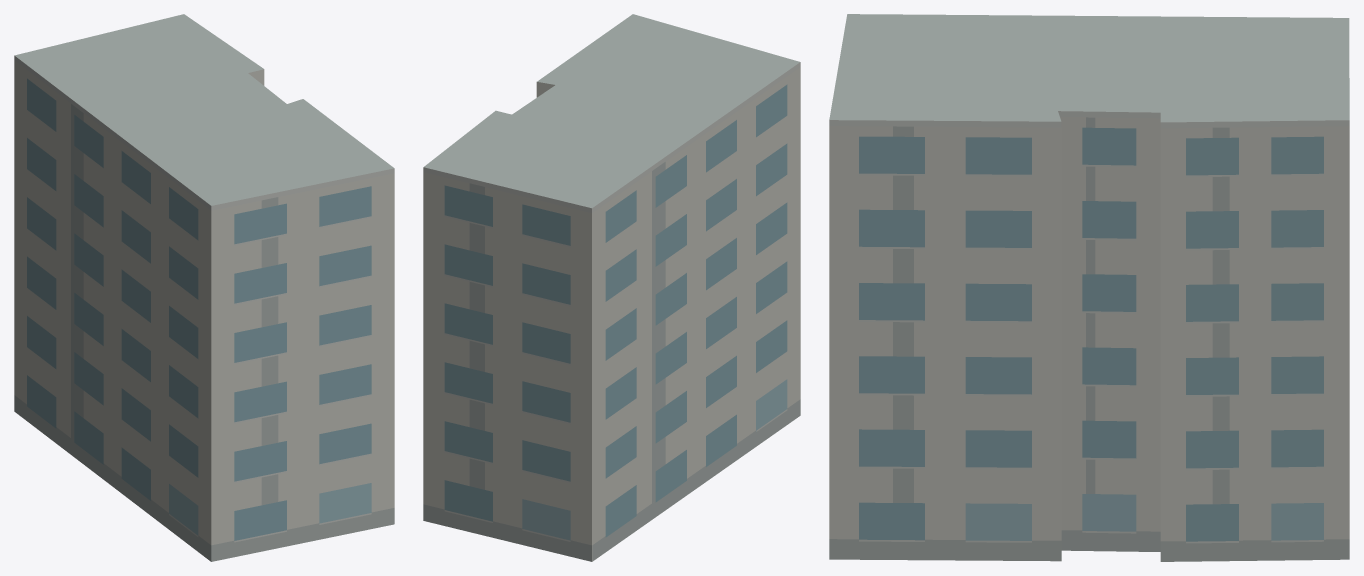
Rendered from survey-upis-32476574.glb.
The picture shows the model from 3 angles, left to right: view 1: azimuth 30°, elevation 25°; view 2: azimuth 150°, elevation 25°; view 3: azimuth 270°, elevation 25°; orthographic projection. The views are drawn at different scales.
Visible parts, largest first — view 1: survey-upis-32476574.tmp; view 2: survey-upis-32476574.tmp; view 3: survey-upis-32476574.tmp.
Part boxes in pixels (left/top/right/bottom): survey-upis-32476574.tmp: left=14, top=14, right=394, bottom=561; survey-upis-32476574.tmp: left=423, top=14, right=800, bottom=561; survey-upis-32476574.tmp: left=829, top=14, right=1349, bottom=561.
Bounding box in the file's own units: 9.54 × 18 × 19.33.
